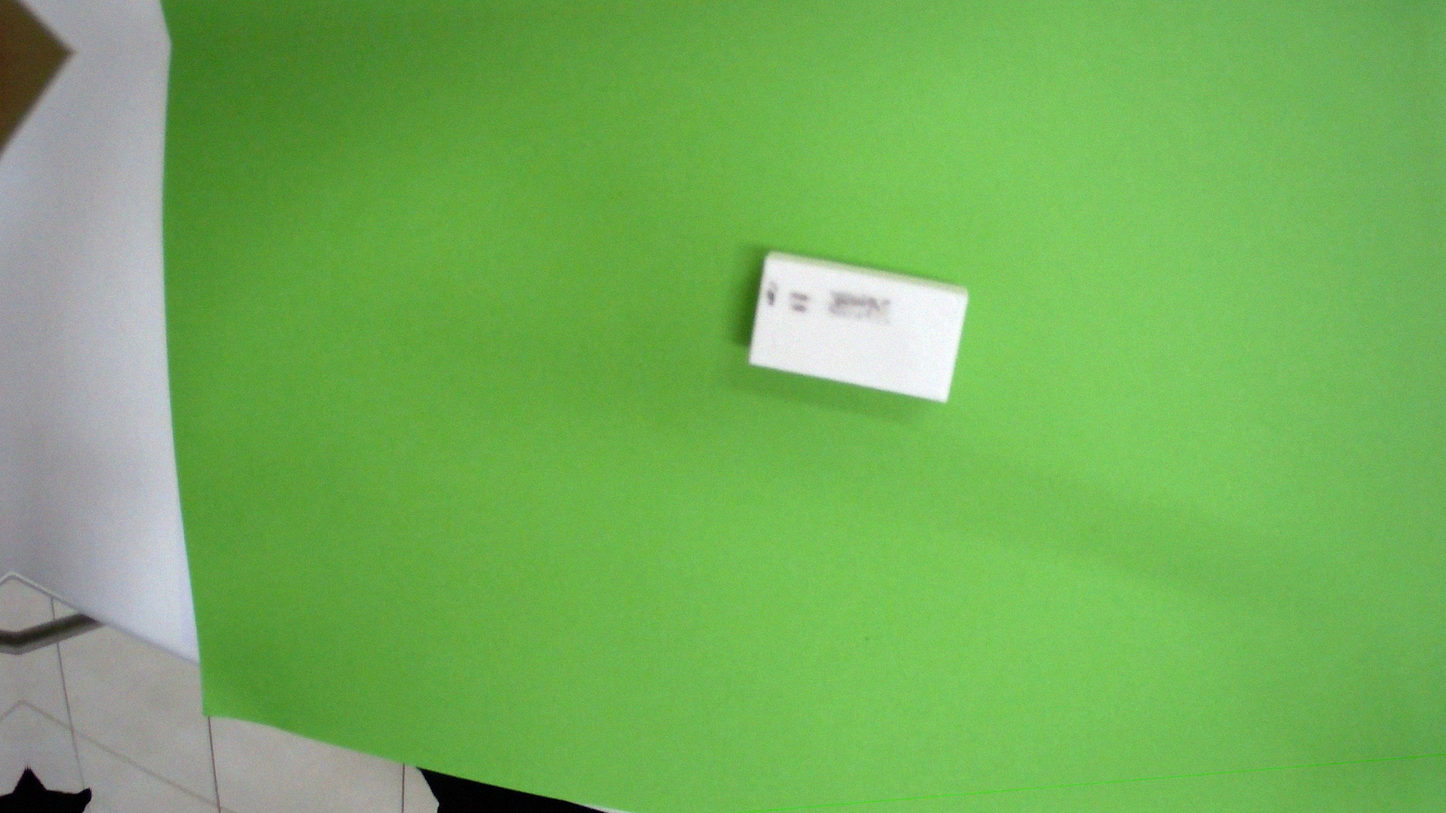gom: (727, 231, 978, 419)
